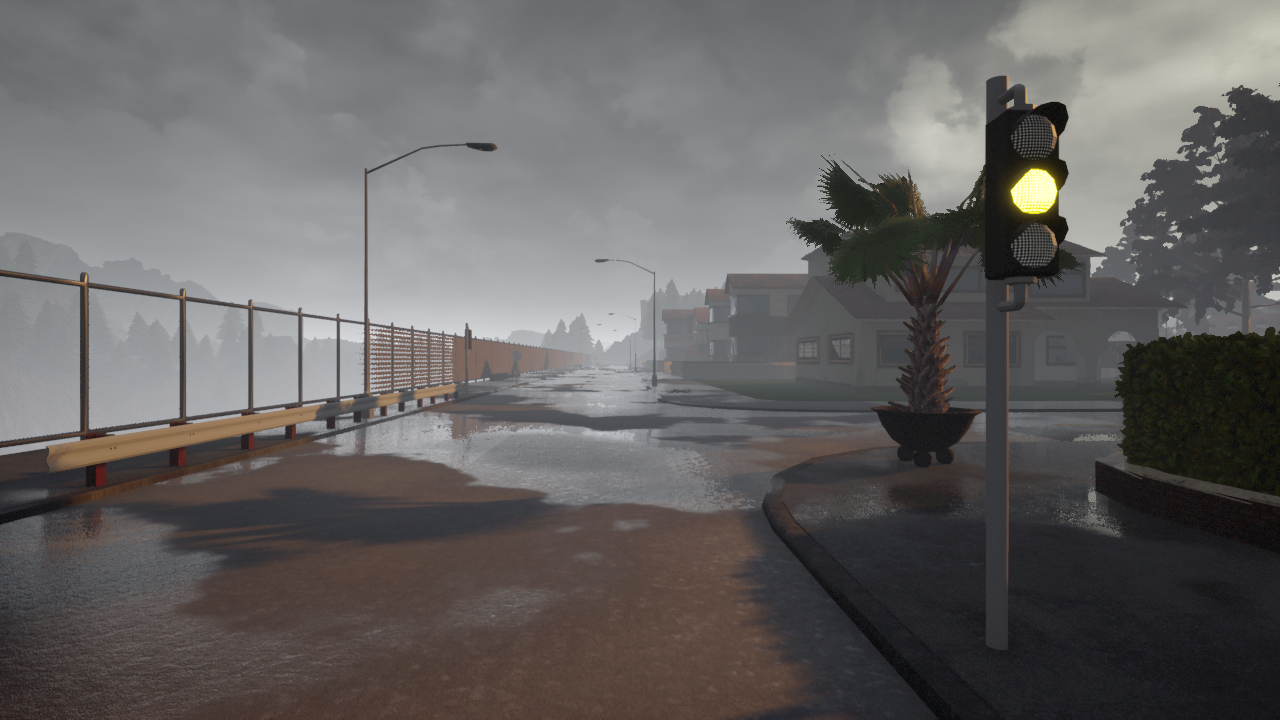yellow: (997, 98, 1071, 282)
